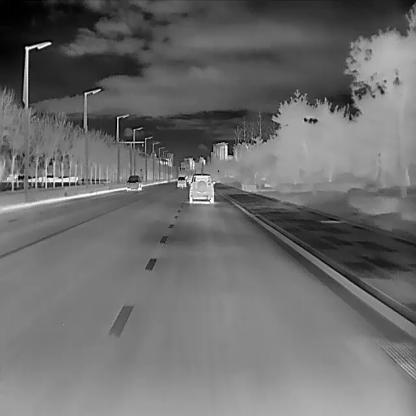car: (188, 173, 214, 202), (125, 174, 141, 190), (177, 175, 186, 187)
